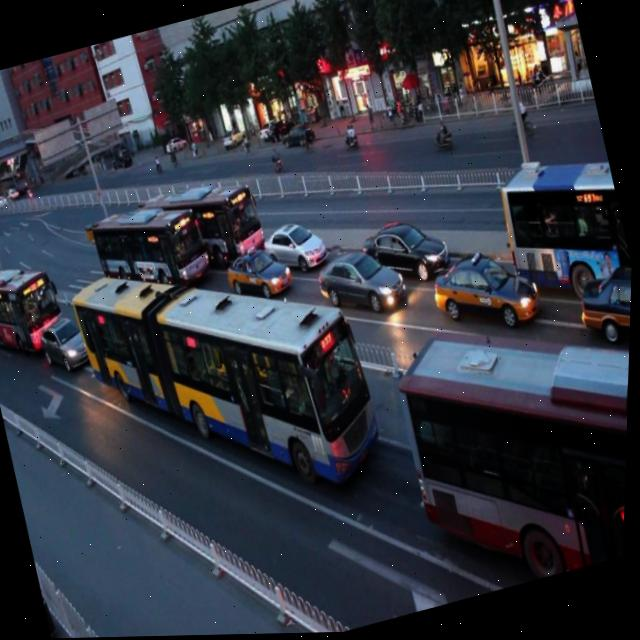car: (425, 236, 548, 351), (309, 234, 408, 329), (359, 206, 455, 293), (219, 234, 295, 310), (571, 259, 634, 349), (256, 208, 330, 283), (36, 307, 101, 377)
van: (60, 208, 396, 542), (387, 285, 633, 607), (489, 143, 636, 310), (84, 183, 217, 314), (137, 162, 271, 285), (0, 246, 67, 355)
